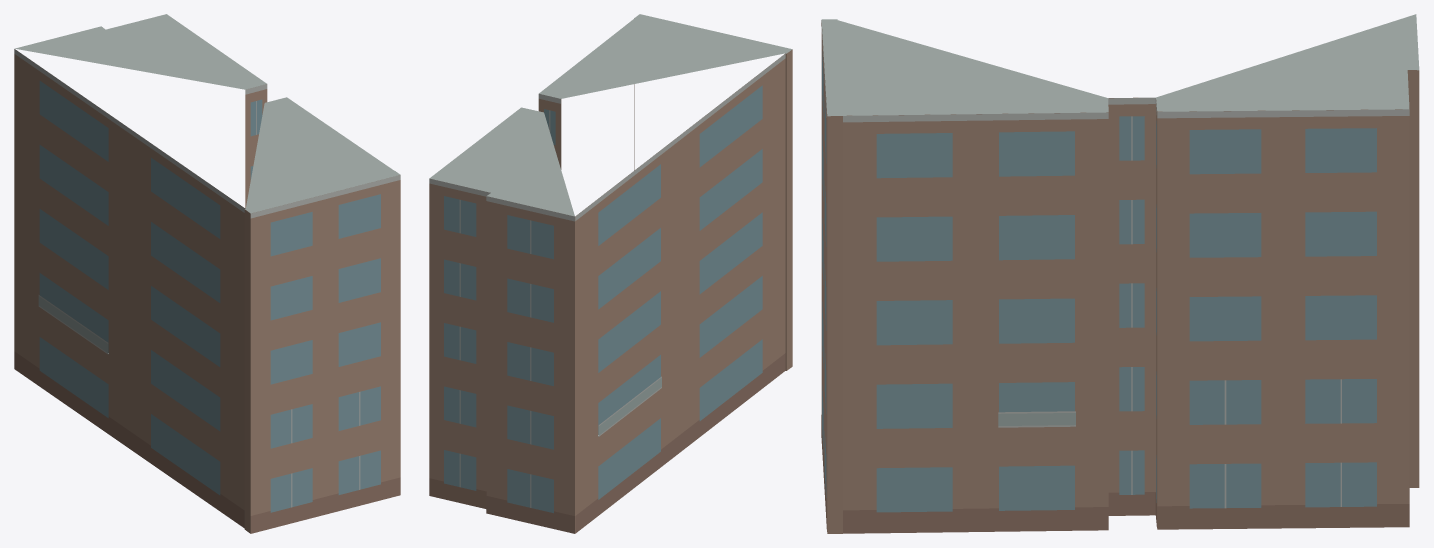
File: survey-upis-32543614.glb
The picture shows the model from 3 angles, left to right: view 1: azimuth 30°, elevation 25°; view 2: azimuth 150°, elevation 25°; view 3: azimuth 270°, elevation 25°; orthographic projection. The views are drawn at different scales.
Visible parts, largest first — view 1: survey-upis-32543614.tmp; view 2: survey-upis-32543614.tmp; view 3: survey-upis-32543614.tmp.
Part boxes in pixels (x1,y1,x2,y2): survey-upis-32543614.tmp: [14, 14, 400, 533]; survey-upis-32543614.tmp: [429, 14, 792, 533]; survey-upis-32543614.tmp: [821, 14, 1419, 533].
Bounding box in the file's own units: 8.13 × 15.5 × 20.11.
